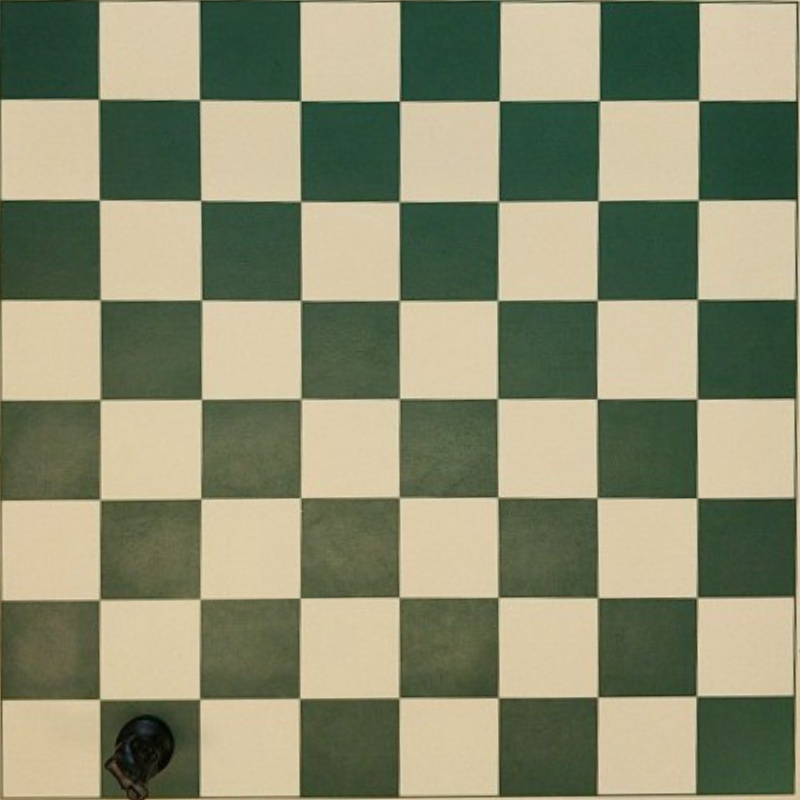black-knight: (105, 714, 174, 796)
